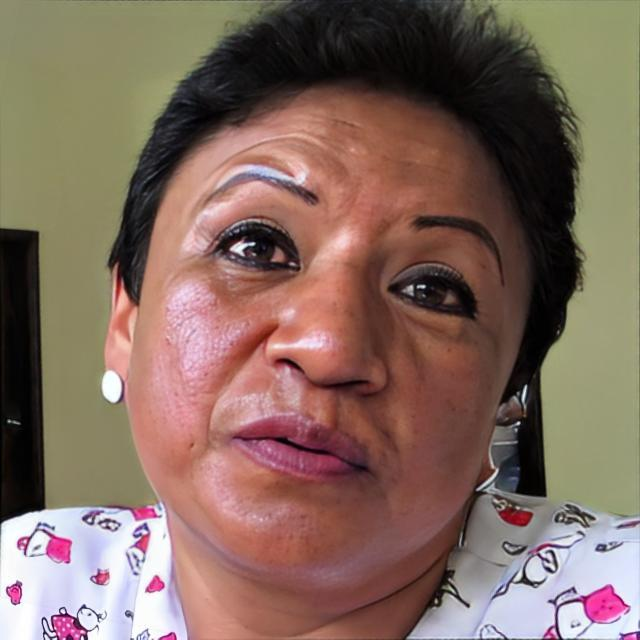surprise: (127, 80, 536, 590)
